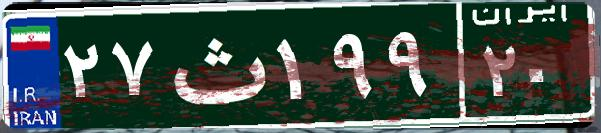0: (525, 38, 570, 115)
1: (273, 28, 330, 110)
2: (57, 26, 110, 107), (475, 38, 525, 113)
7: (110, 28, 158, 105)
9: (385, 28, 445, 110), (330, 28, 385, 110)
ث: (158, 15, 273, 115)
